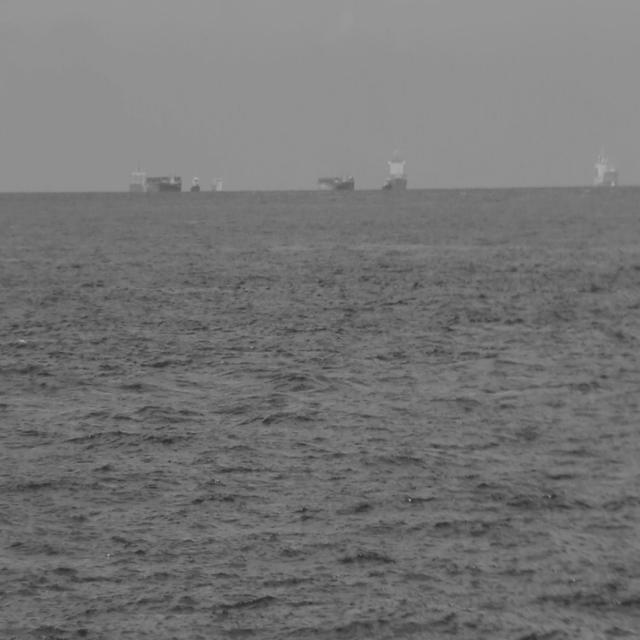ship: (130, 163, 182, 194), (379, 144, 409, 192), (592, 144, 619, 189), (316, 170, 355, 192), (188, 172, 202, 193)
